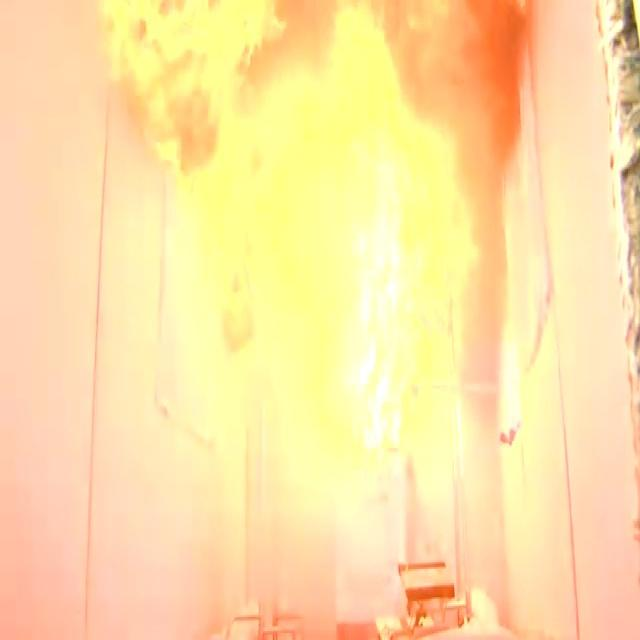fire: (94, 1, 474, 576)
